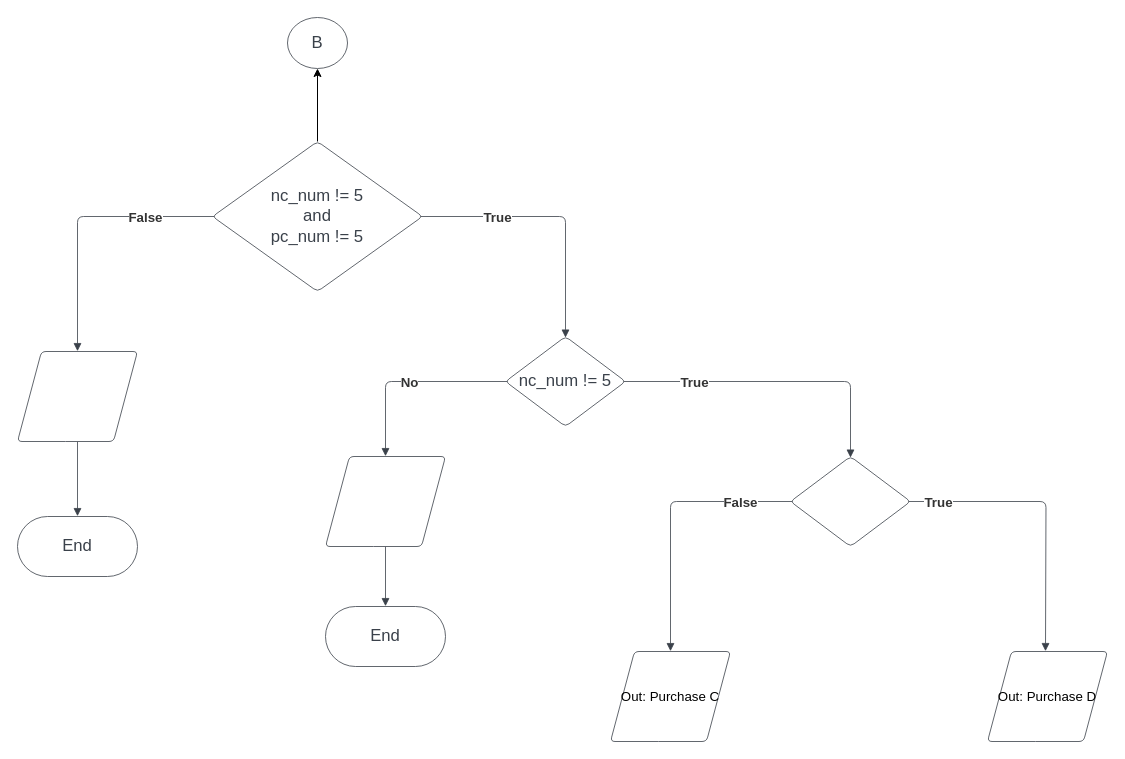
Image size: 1125x759. Some labels were removed from this diagram. Here are the shapes that lost their labels. From the top down, the box of each, then its label:
(17, 351, 137, 441): Out: Purchase A
(325, 456, 445, 546): Out: Purchase B
(790, 456, 910, 546): pc_num != 5
